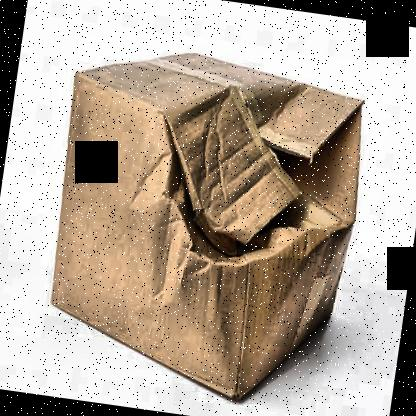defect parcel: (116, 85, 402, 284)
